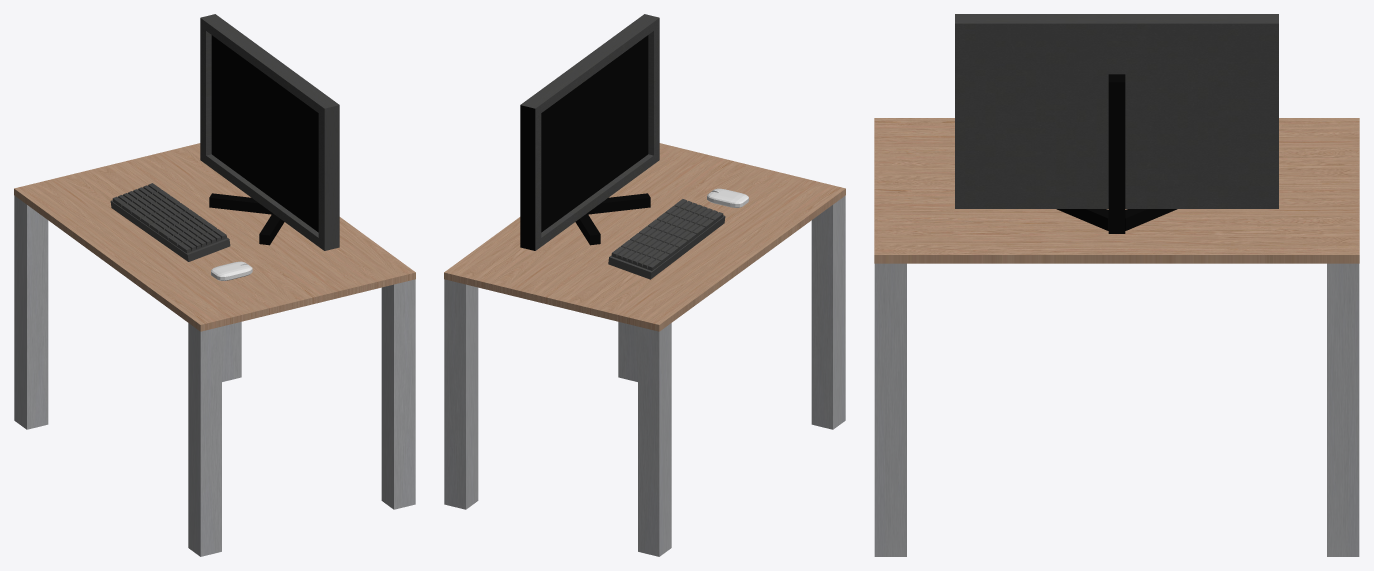
Rendered from desk.glb.
The picture shows the model from 3 angles, left to right: view 1: azimuth 30°, elevation 25°; view 2: azimuth 150°, elevation 25°; view 3: azimuth 270°, elevation 25°; orthographic projection. The views are drawn at different scales.
Visible parts, largest first — view 1: Plane, Cube, Cube.001, Cube.004, Cube.003, Cube.005; view 2: Plane, Cube, Cube.001, Cube.004, Cube.003, Cube.005; view 3: Cube.001, Plane, Cube, Cube.002, Cube.003.
Part boxes in pixels (bbox=[...]): Plane: bbox=[14, 143, 415, 331]; Cube: bbox=[14, 195, 415, 556]; Cube.001: bbox=[200, 14, 339, 250]; Cube.004: bbox=[110, 183, 230, 261]; Cube.003: bbox=[209, 193, 284, 245]; Cube.005: bbox=[211, 261, 252, 280]; Plane: bbox=[444, 143, 845, 331]; Cube: bbox=[444, 195, 845, 556]; Cube.001: bbox=[520, 14, 659, 250]; Cube.004: bbox=[608, 199, 725, 279]; Cube.003: bbox=[575, 193, 650, 245]; Cube.005: bbox=[707, 188, 748, 207]; Cube.001: bbox=[955, 14, 1278, 208]; Plane: bbox=[874, 118, 1359, 263]; Cube: bbox=[874, 263, 1359, 556]; Cube.002: bbox=[1108, 74, 1125, 233]; Cube.003: bbox=[1056, 209, 1177, 230].
Bounding box in the file's own units: 2 × 3.44 × 3.
6 materials, 3 textured.
